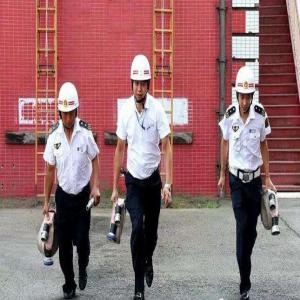white: (57, 81, 80, 130), (235, 65, 257, 115), (130, 54, 152, 102)
